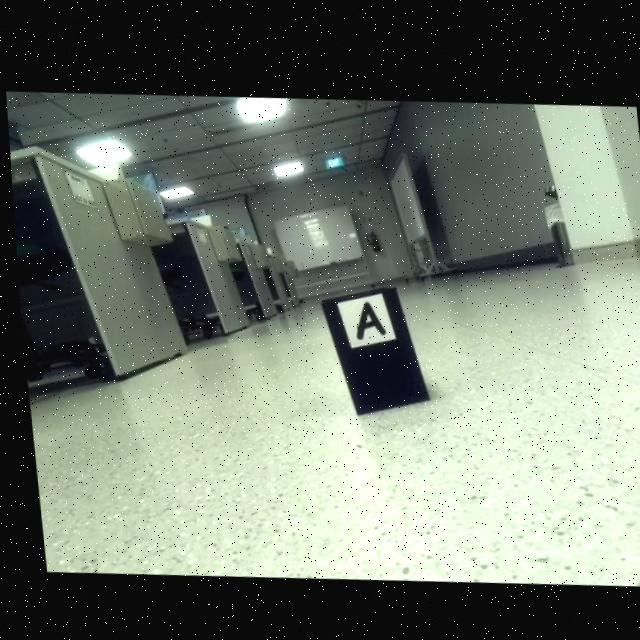A: (352, 297, 382, 335)
